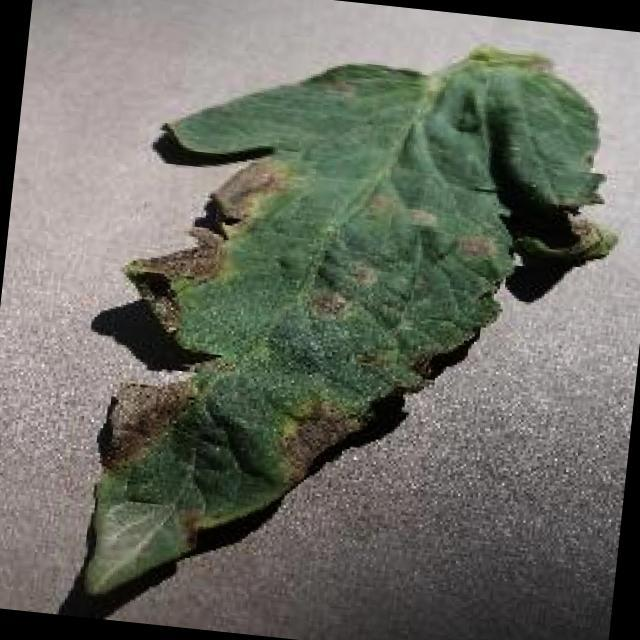Tomato Early blight leaf: (73, 9, 635, 640)
